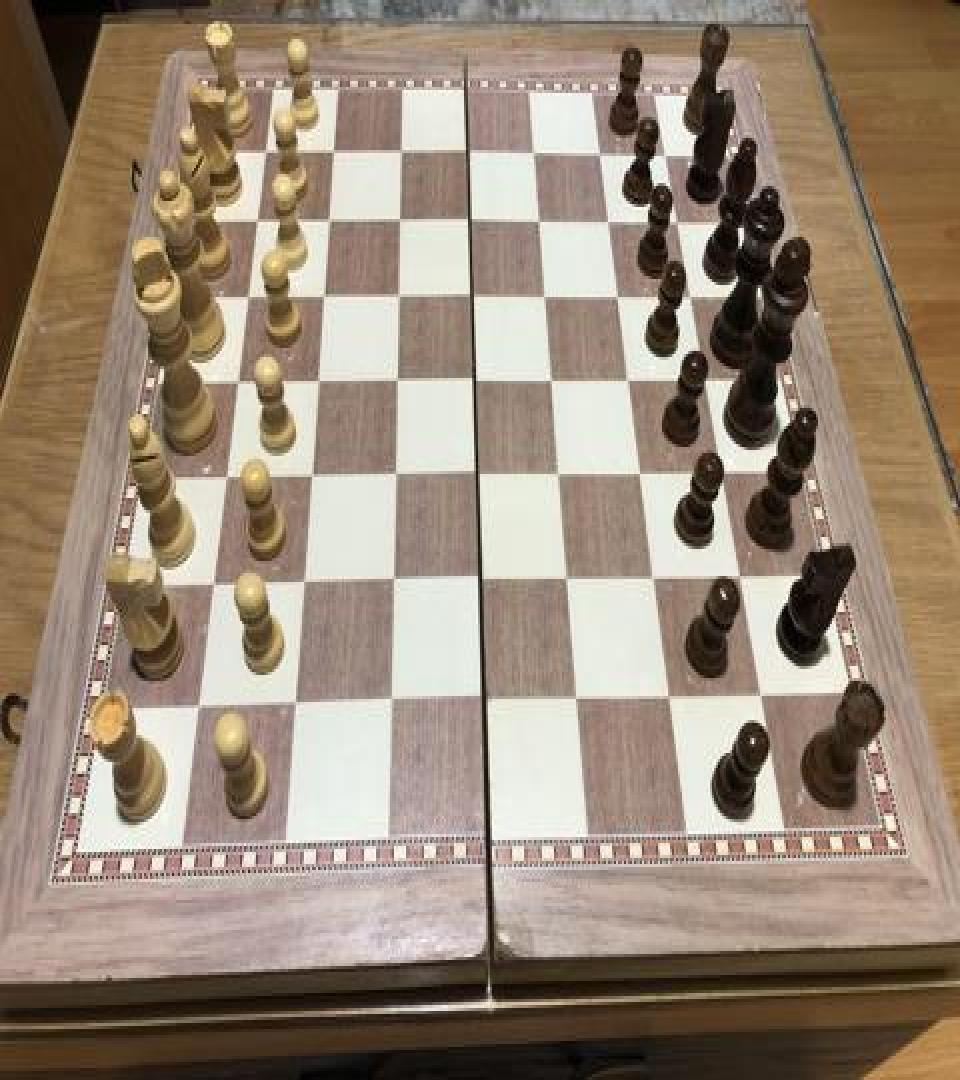xcorner: (680, 280, 706, 320), (607, 280, 633, 320), (533, 280, 559, 320), (458, 280, 484, 320), (695, 364, 721, 404), (618, 364, 644, 404), (540, 364, 566, 404), (461, 364, 487, 404), (381, 364, 407, 404), (301, 364, 327, 404), (730, 562, 756, 602), (288, 568, 314, 608), (659, 682, 685, 722), (376, 688, 402, 728), (655, 136, 681, 175), (588, 136, 614, 175), (521, 135, 547, 174), (316, 132, 342, 171), (246, 132, 272, 171), (597, 204, 623, 243), (527, 204, 553, 243), (455, 204, 481, 243), (384, 202, 410, 241), (311, 202, 337, 241), (238, 201, 264, 240), (383, 279, 409, 318), (306, 279, 332, 318), (229, 279, 255, 318), (220, 366, 246, 405), (630, 459, 656, 498), (547, 459, 573, 498), (464, 460, 490, 499), (380, 460, 406, 499), (295, 460, 321, 499), (209, 462, 235, 501), (644, 564, 670, 603), (556, 565, 582, 604), (468, 567, 494, 606), (378, 567, 404, 606), (196, 570, 222, 609), (751, 681, 777, 720), (566, 686, 592, 725), (472, 687, 498, 726), (280, 690, 306, 729), (182, 693, 208, 732), (453, 134, 479, 172), (385, 134, 411, 172), (667, 206, 693, 244), (712, 458, 738, 496)
